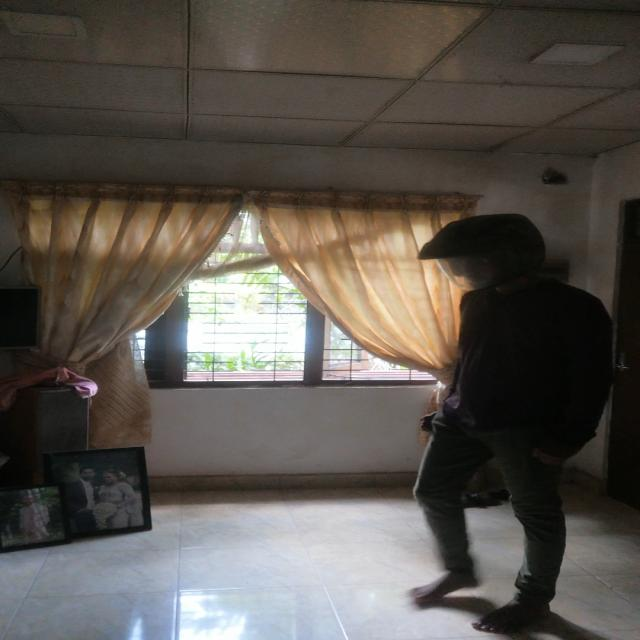Helmet_Wearer: (407, 208, 554, 290)
Person: (391, 208, 624, 606)
